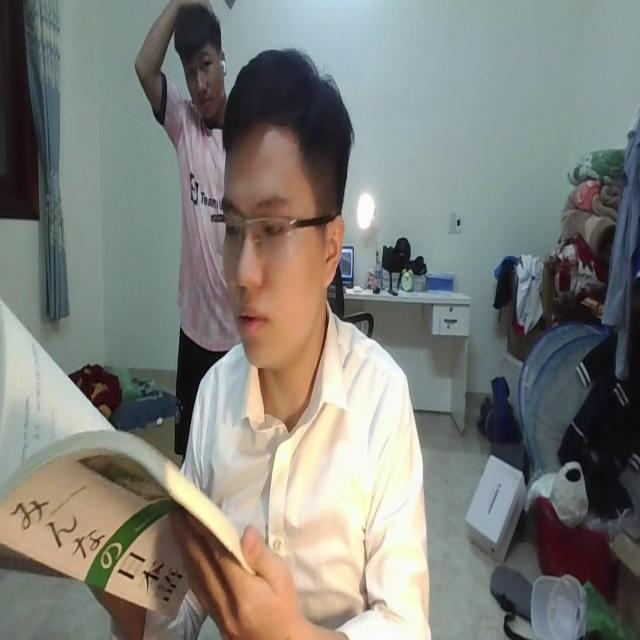book: (1, 296, 250, 624)
extra_person: (130, 0, 247, 452)
student: (181, 46, 429, 640)
